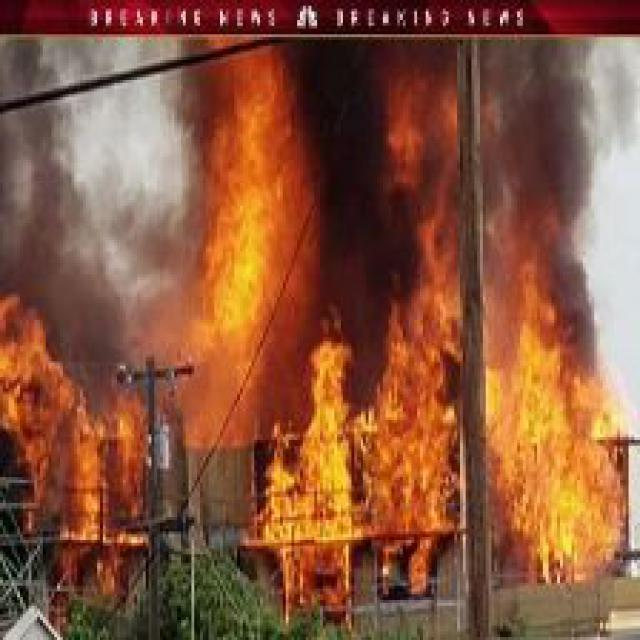fire: (186, 43, 637, 611), (3, 271, 157, 606)
